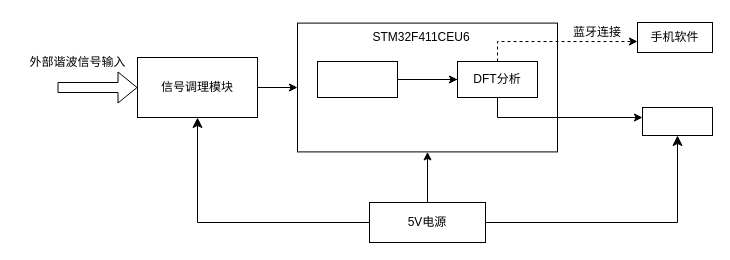
Some shapes in this 730 by 260 pixel diagram are drawn without their labels. The shapes that lost their labels are listed below. From the top down, each one's centre as x and y in pixels, then its label:
the point at 357,79: ADC处理
the point at 677,121: 串口屏
